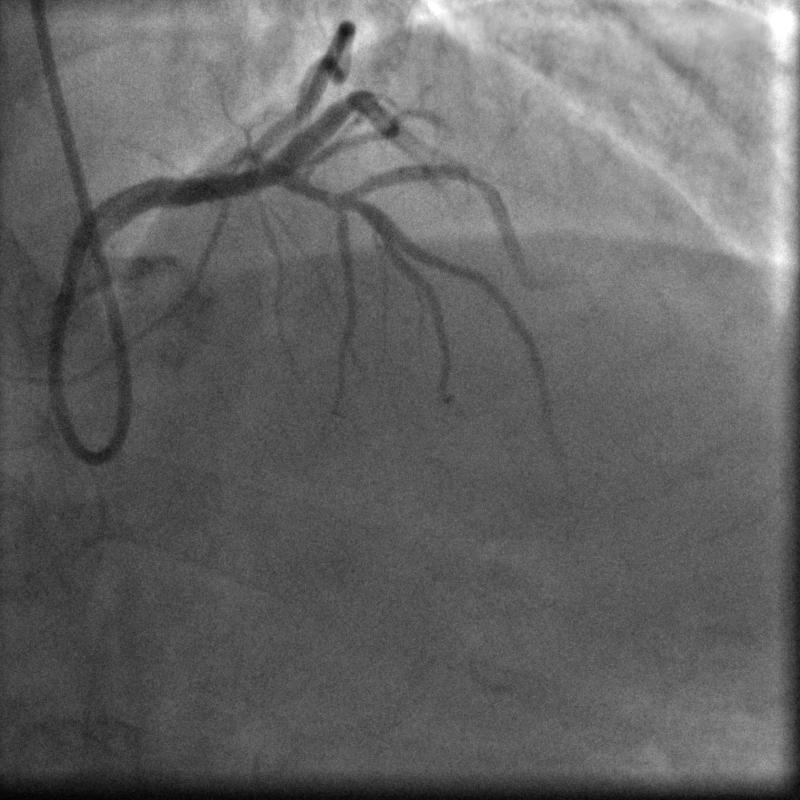Stenosis: (458, 161, 493, 198)
